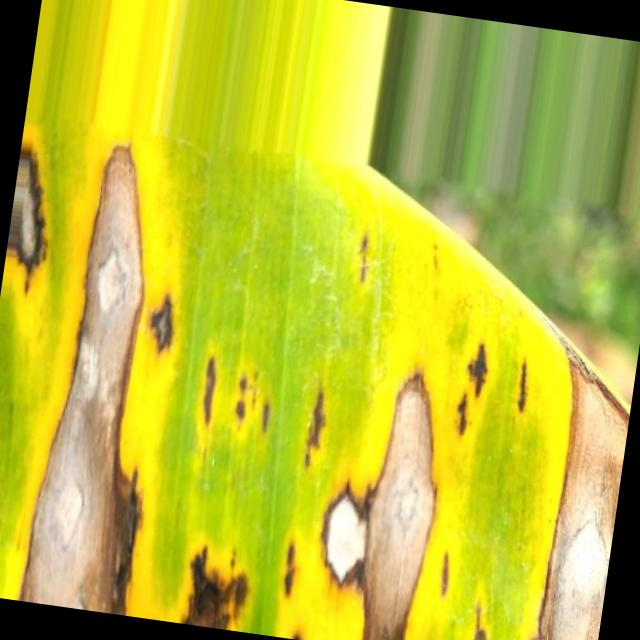Banana_Yellow_Sigatoka: (161, 293, 589, 640), (4, 120, 213, 614)
